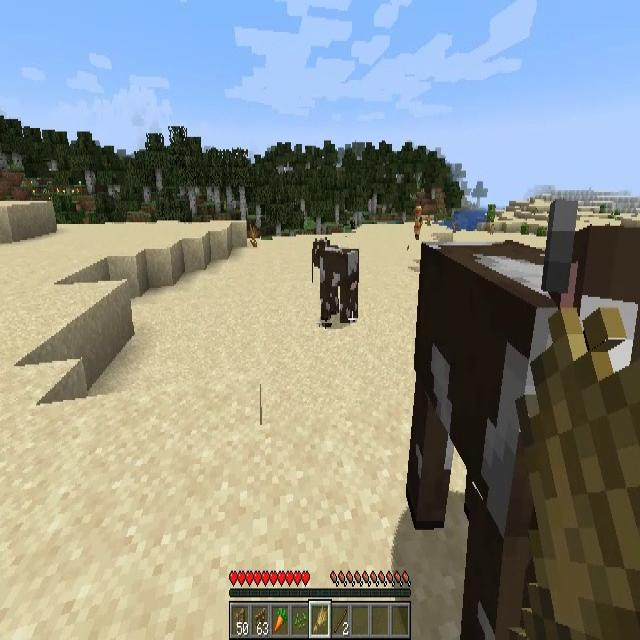cow: (417, 216, 640, 634), (313, 237, 359, 323)
